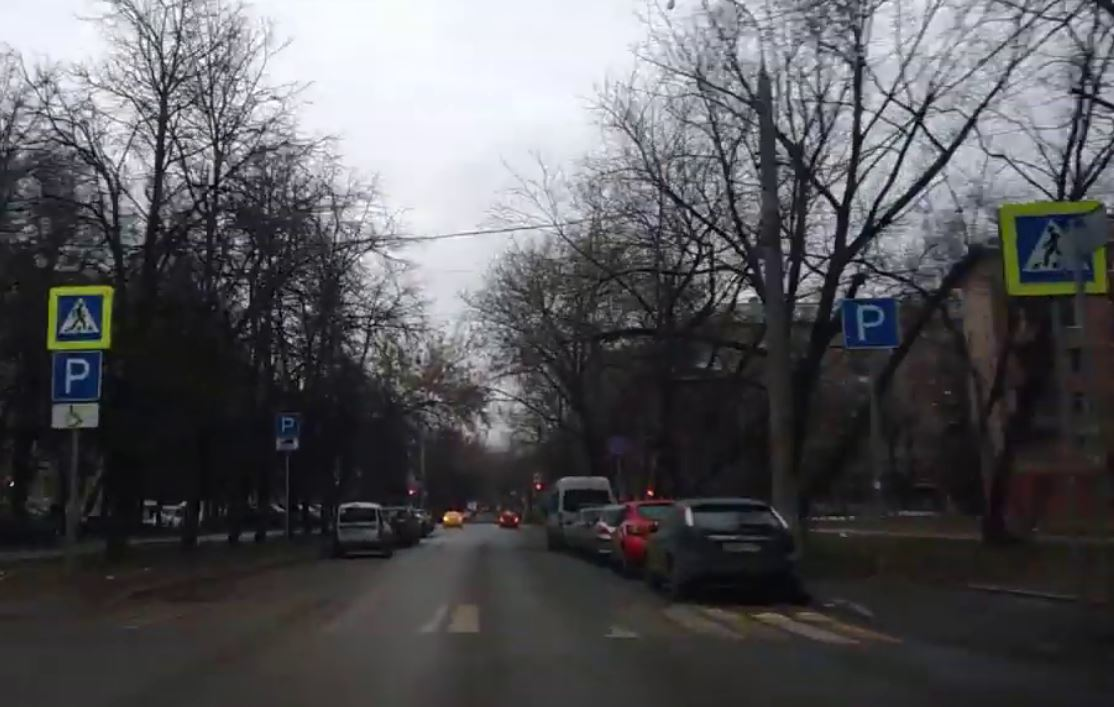Yaya Gecidi: (1015, 218, 1094, 278), (61, 296, 107, 338)
